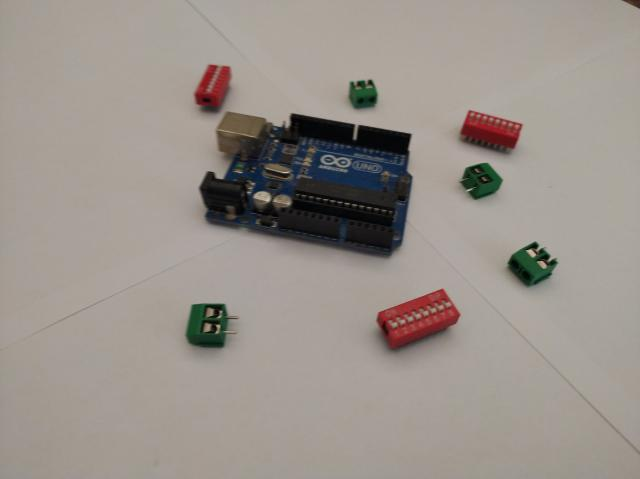arduino: (199, 110, 413, 255)
dip_switch: (378, 288, 460, 350), (461, 111, 523, 153), (195, 64, 231, 110)
terminal_block: (186, 304, 238, 348), (508, 242, 558, 286), (458, 163, 502, 201), (348, 79, 378, 109)
